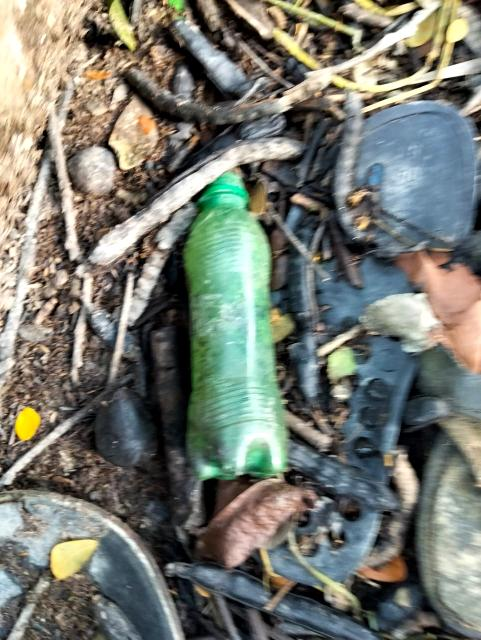bottle: (173, 181, 289, 478)
